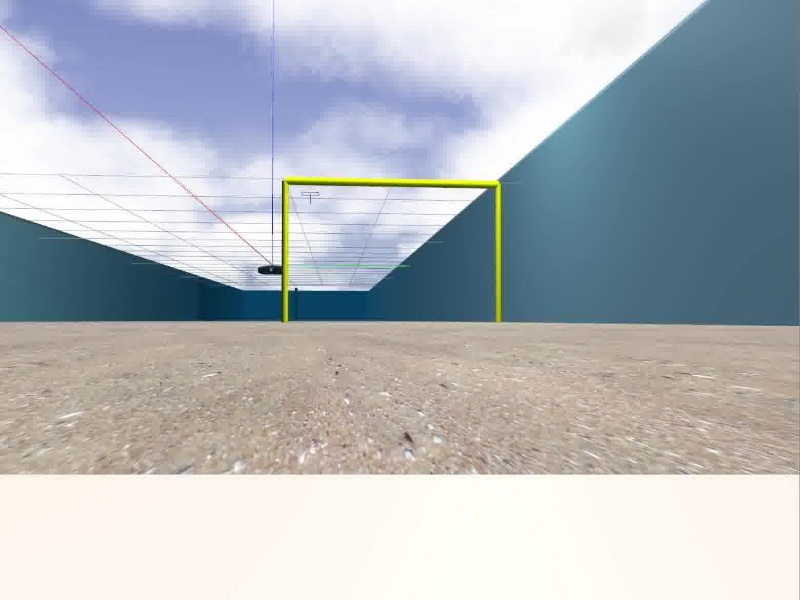gate: (280, 176, 501, 324)
